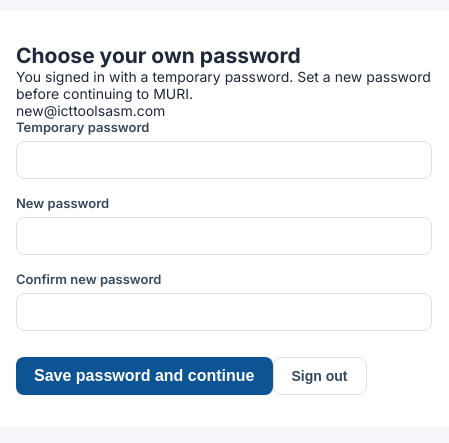
Scenario: shows a backend failure and keeps the user on the password form
The width and height of the screenshot is (449, 443).
Type "Temp-password-234" into the password field labelled "Temporary password" at [224, 160], box [16,141,432,179]
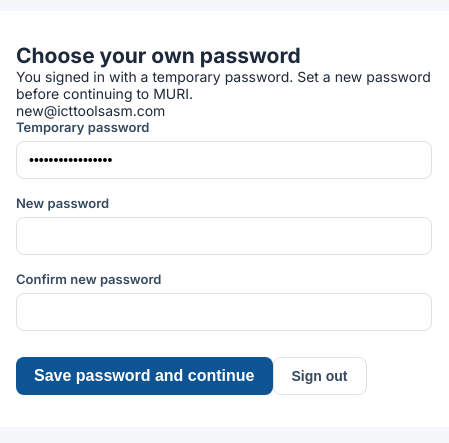
Type "My-new-password-234" into the password field labelled "New password" at [224, 236], box [16,217,432,255]
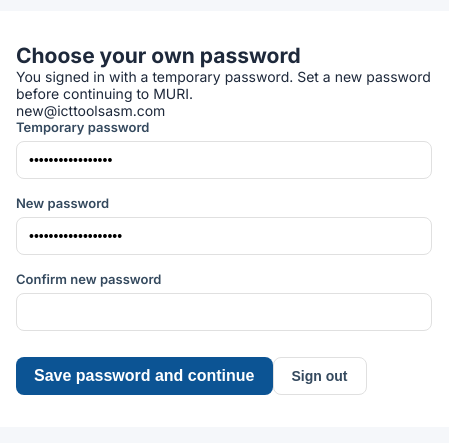
Type "My-new-password-234" into the password field labelled "Confirm new password" at [224, 312], box [16,293,432,331]
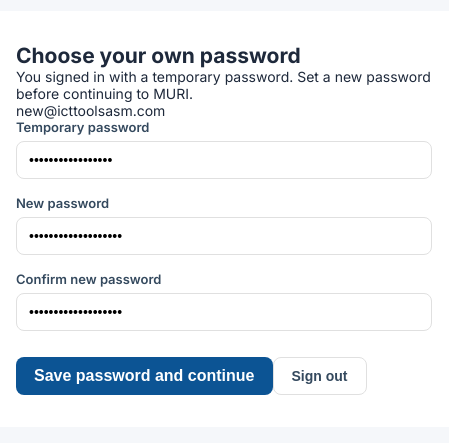
Click the button "Save password and continue" at [144, 376], box [16,357,272,395]
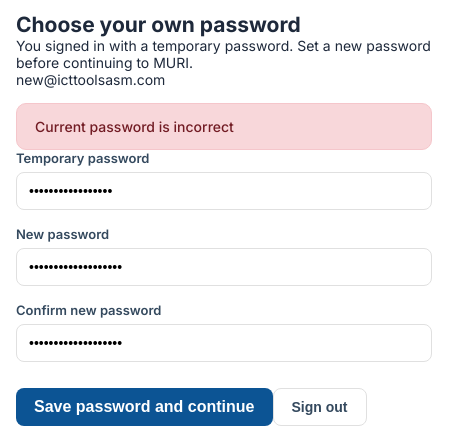
Expected: the message reads "Current password is incorrect", [35,118,234,135]
